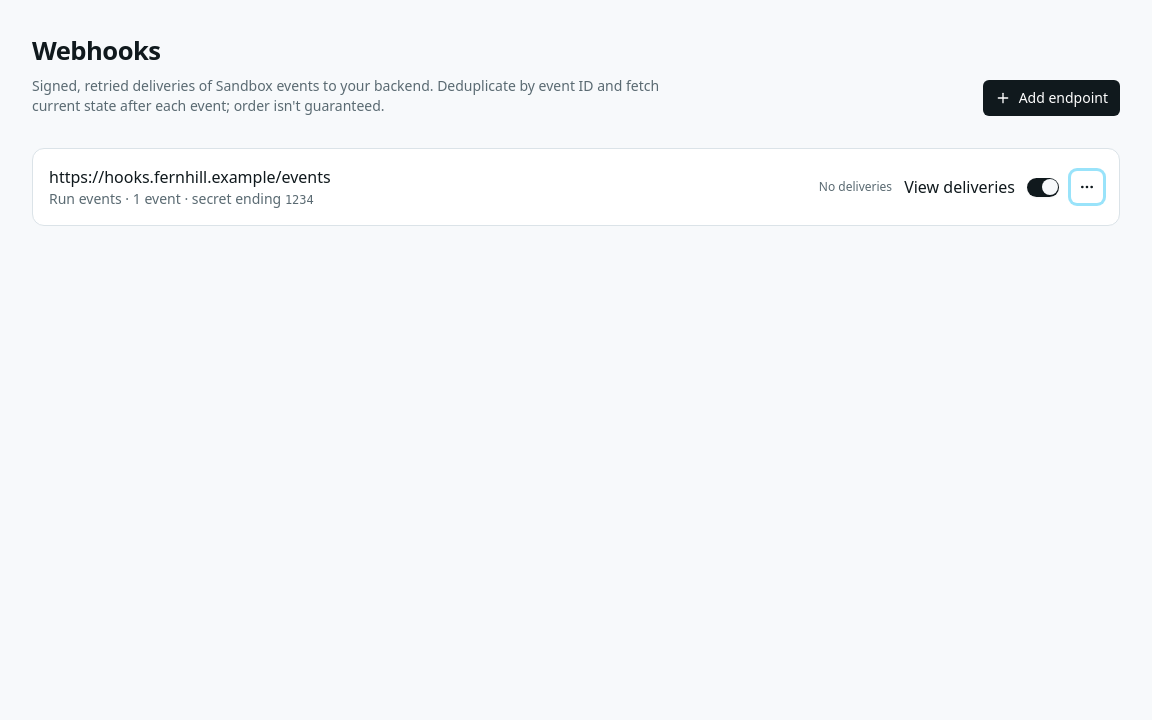
Scenario: webhook signing-secret rotation › keeps the one-time reveal open when refreshing the endpoint list fails
Press Enter
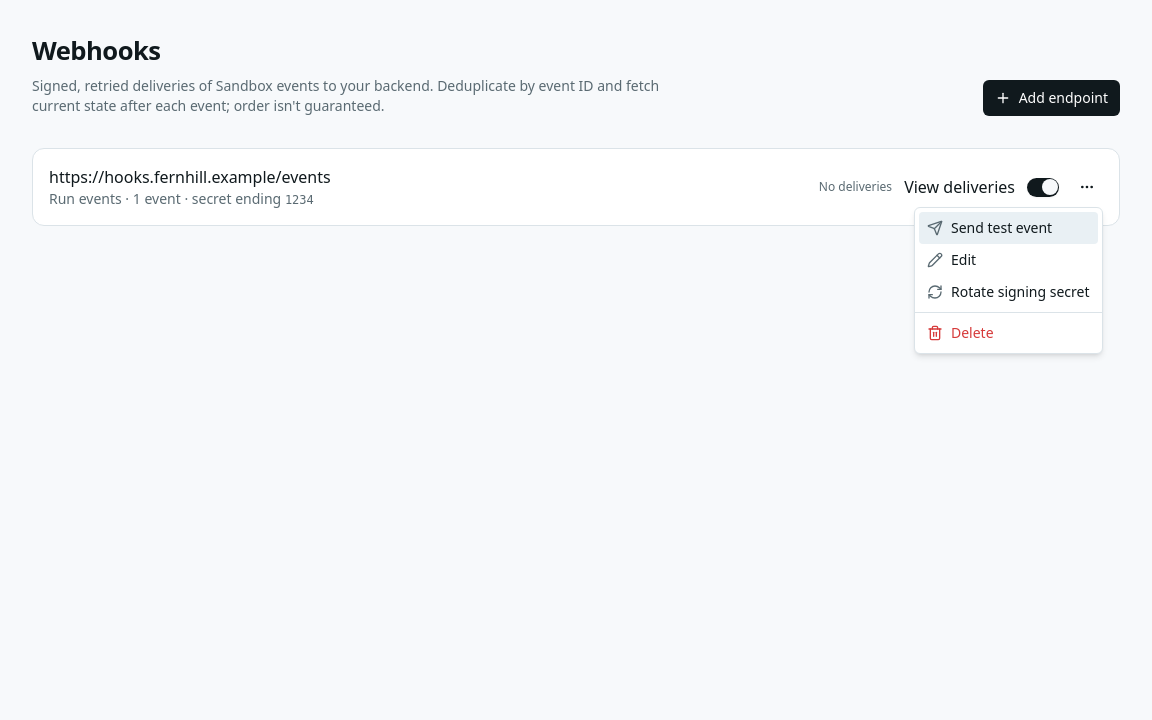
Click the menu item "Rotate signing secret".
click(1008, 292)  # box x1=927 y1=282 x2=1090 y2=301
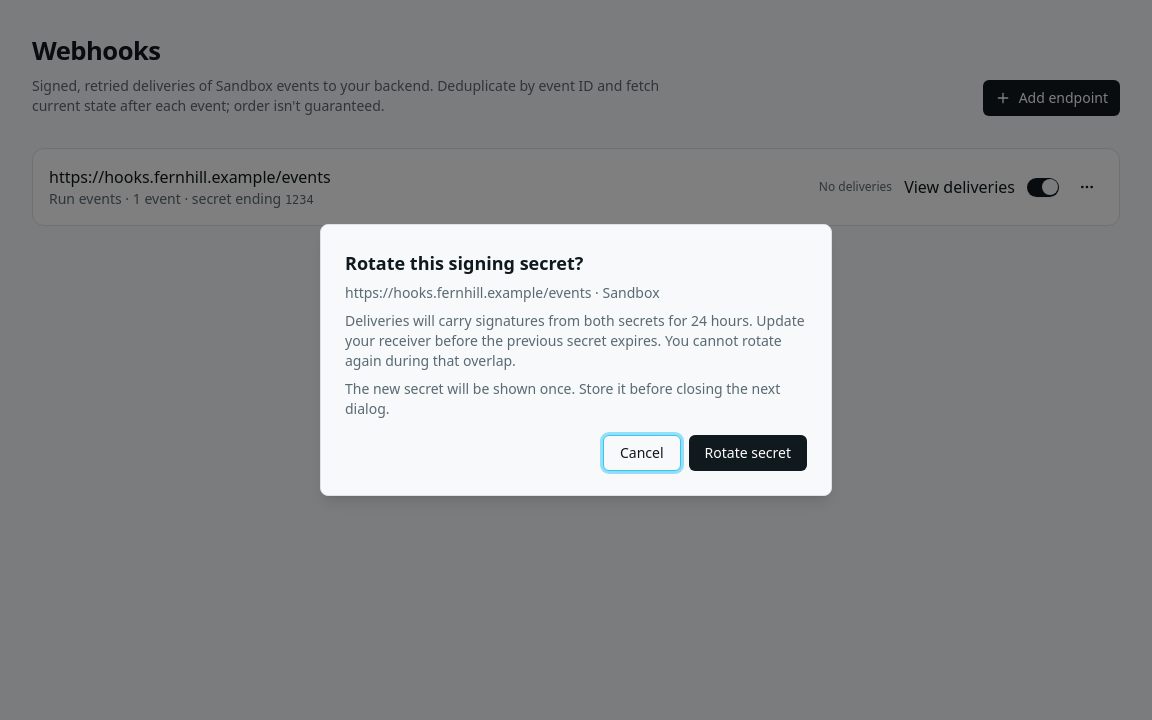
Click the button "Rotate secret".
click(748, 453)  # box x1=688 y1=435 x2=807 y2=471
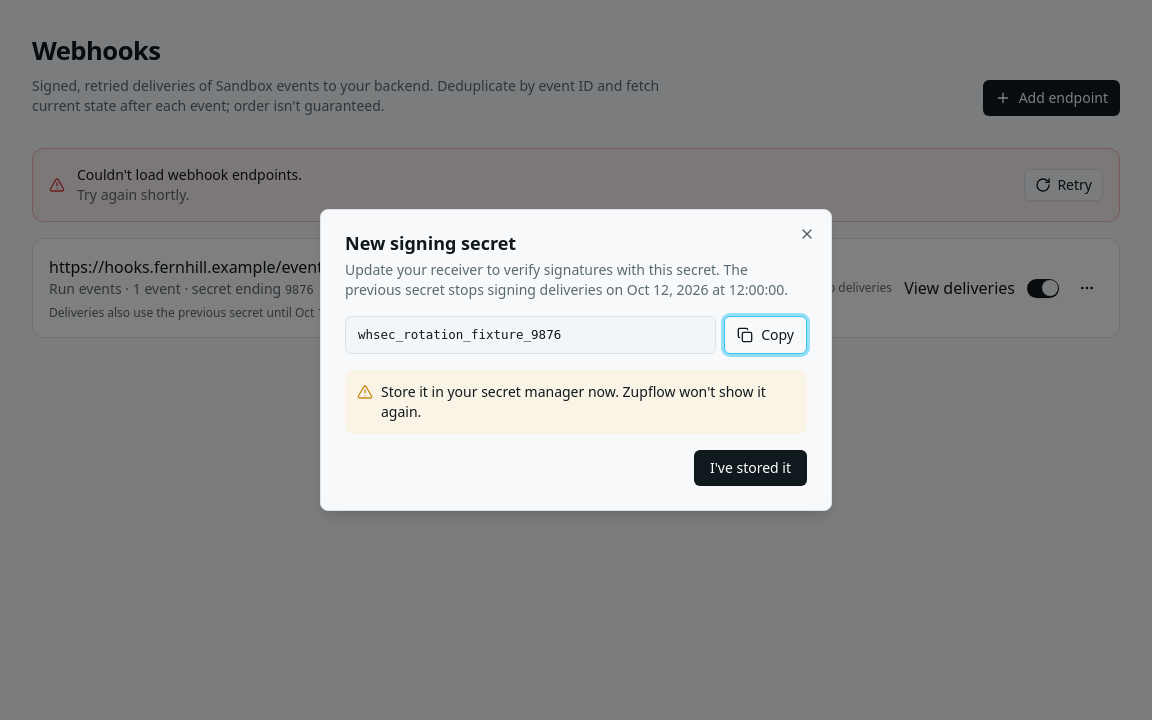
Now the text "Try again shortly." is shown, box x1=77 y1=185 x2=190 y2=204
Now the text "whsec_rotation_fixture_9876" is shown, box x1=345 y1=316 x2=716 y2=354
Click the button "I've stored it".
click(750, 468)  # box x1=694 y1=450 x2=807 y2=486
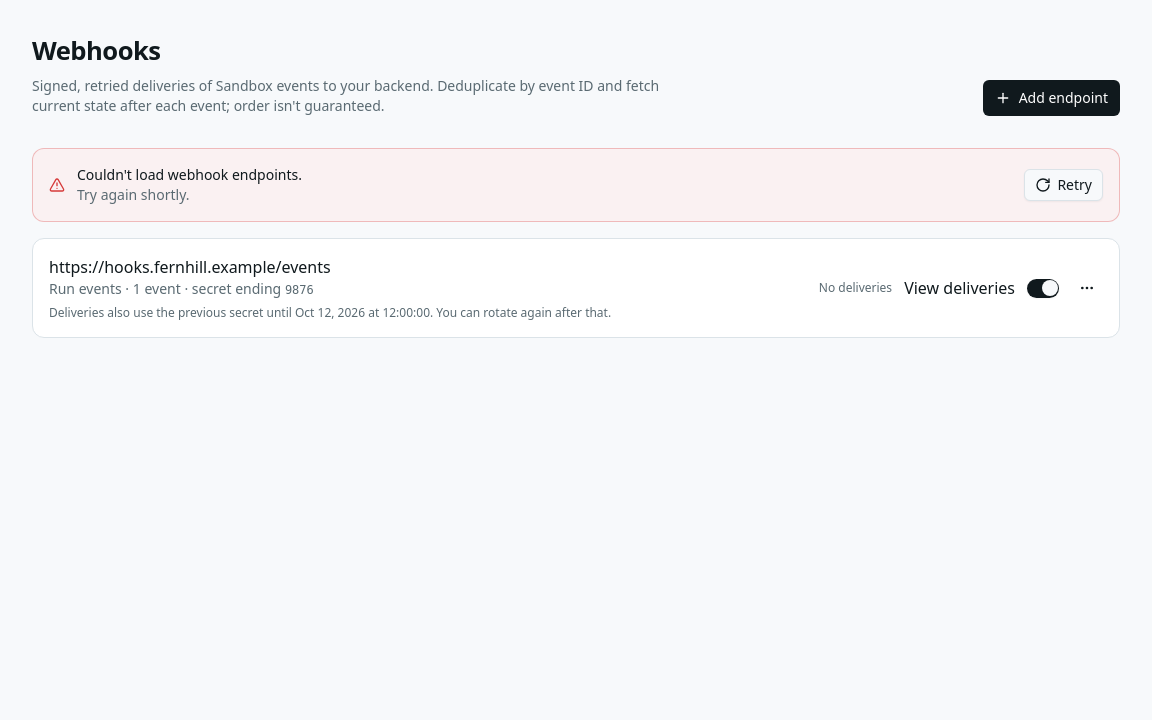
Now the text "9876" is shown, box x1=285 y1=283 x2=314 y2=297
Now the text "You can rotate again after that" is shown, box x1=430 y1=304 x2=611 y2=321
Now the text "whsec_rotation_fixture_9876" is gone
